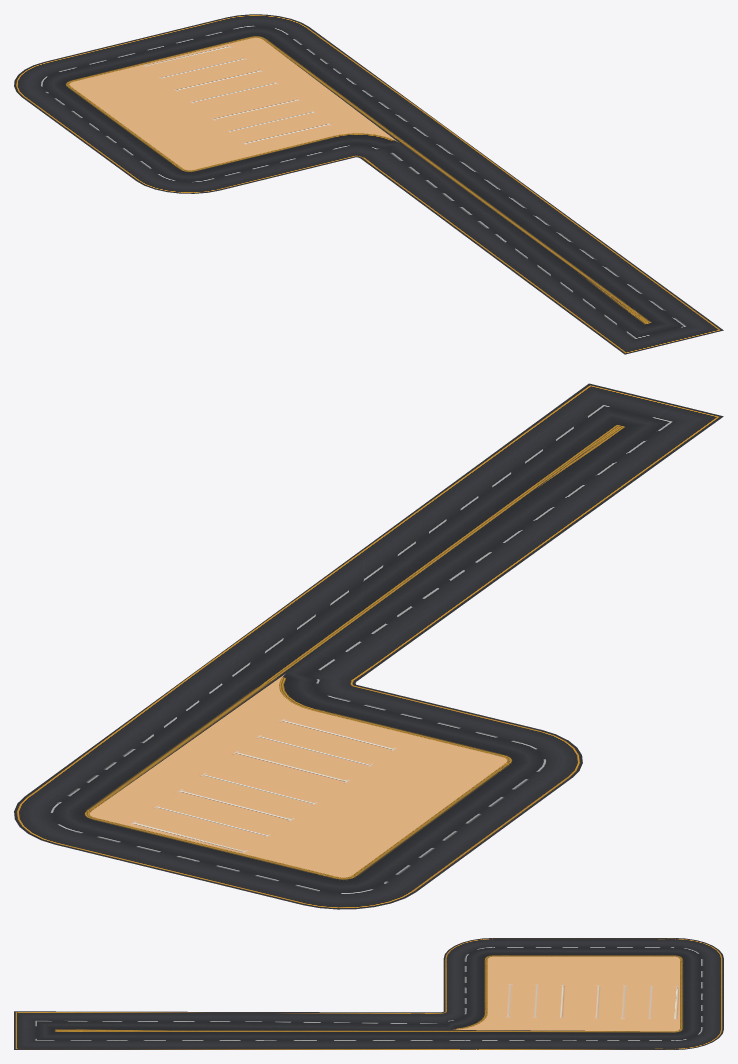
File: parking_area.FBX
3 renders of one model, top to bottom at view 1: azimuth 30°, elevation 25°; view 2: azimuth 150°, elevation 25°; view 3: azimuth 270°, elevation 25°, orthographic. The views are drawn at different scales.
Parts seen in each view (by area): view 1: road, parking_area; view 2: road, parking_area; view 3: road, parking_area.
Part boxes in pixels (x1=…): road: x1=14, y1=14, x2=723, y2=354; parking_area: x1=69, y1=37, x2=397, y2=170; road: x1=14, y1=383, x2=723, y2=909; parking_area: x1=89, y1=674, x2=507, y2=877; road: x1=14, y1=938, x2=723, y2=1049; parking_area: x1=453, y1=956, x2=679, y2=1031.
Size of the model in its own units: 841 by 6 by 2253.
Materials: 2 (2 with a texture image).
